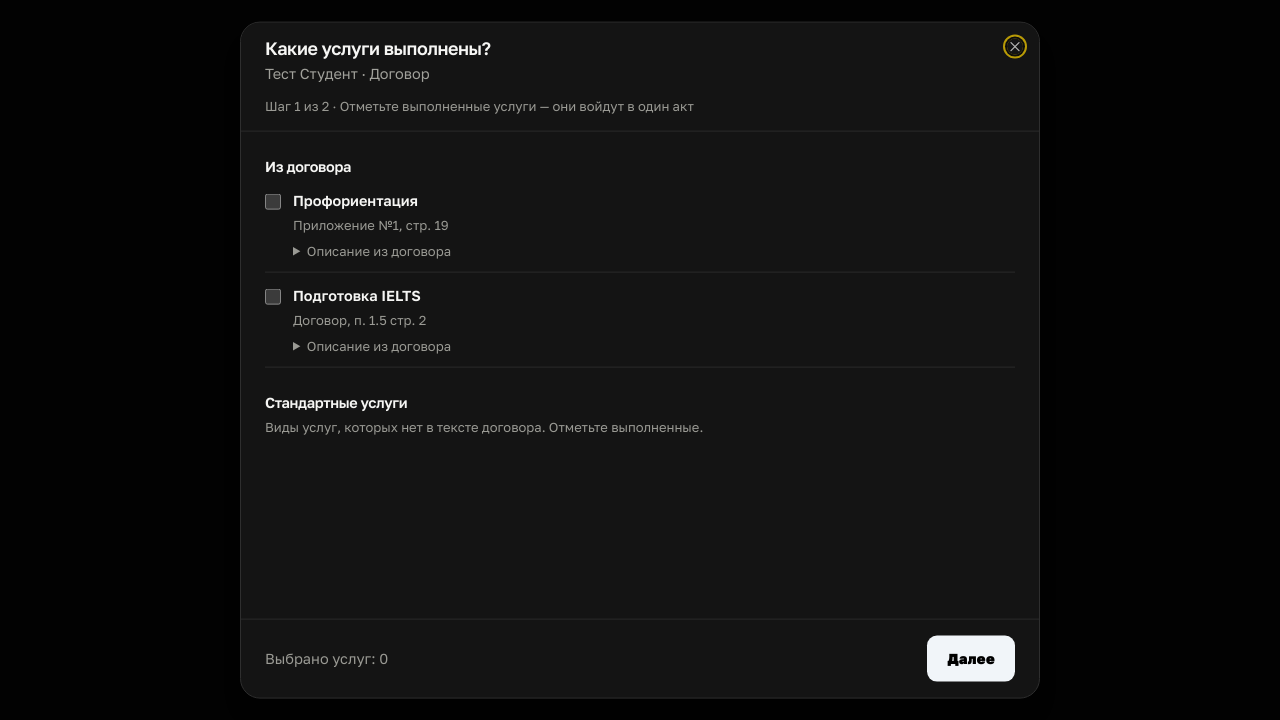
Scenario: defaults the period end and act date to today and explains a wrong date under the field
The width and height of the screenshot is (1280, 720).
Click the checkbox labelled "Подготовка IELTS Договор, п. 1.5 стр. 2". click: point(273, 297)
box: [265,289,281,305]
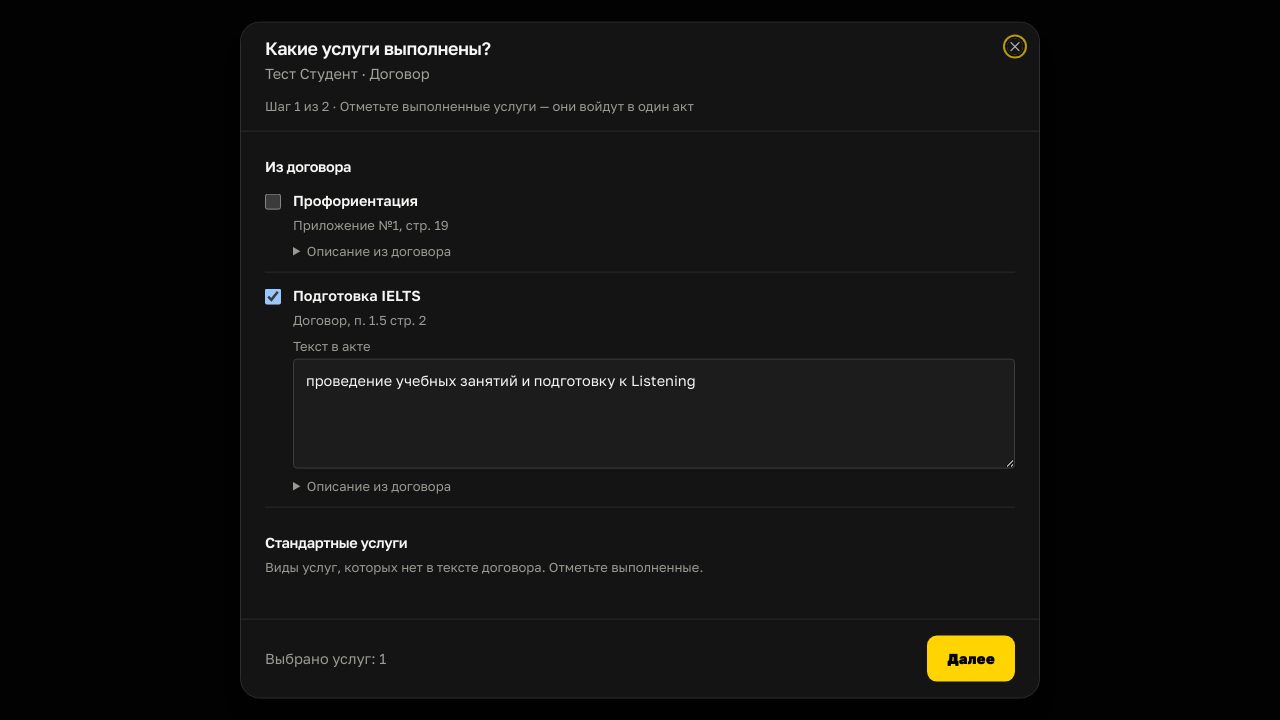
Click the button "Далее". click: point(971, 658)
box: [927,635,1015,681]
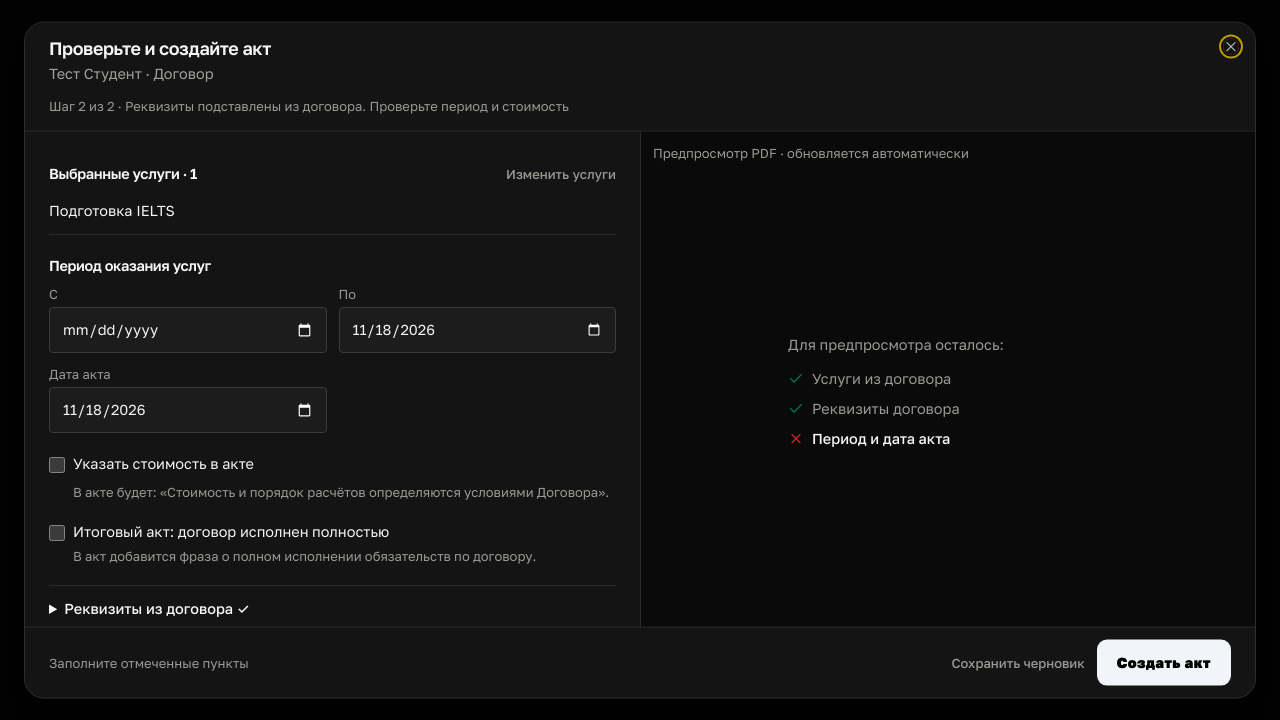
Check: the date field labelled "С" is empty
Type "2026-08-01" into the date field labelled "С". click: point(188, 330)
box: [49,307,326,353]
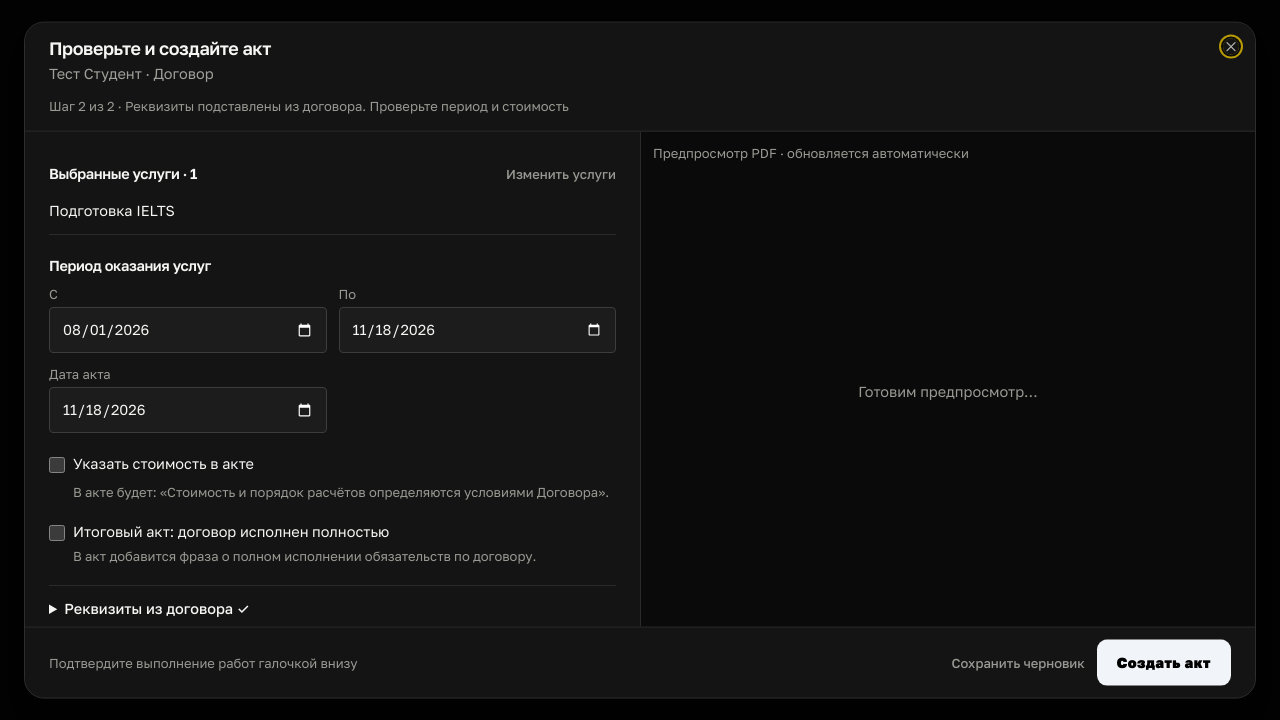
Type "2099-01-01" into the date field labelled "По". click: point(477, 330)
box: [338,307,616,353]
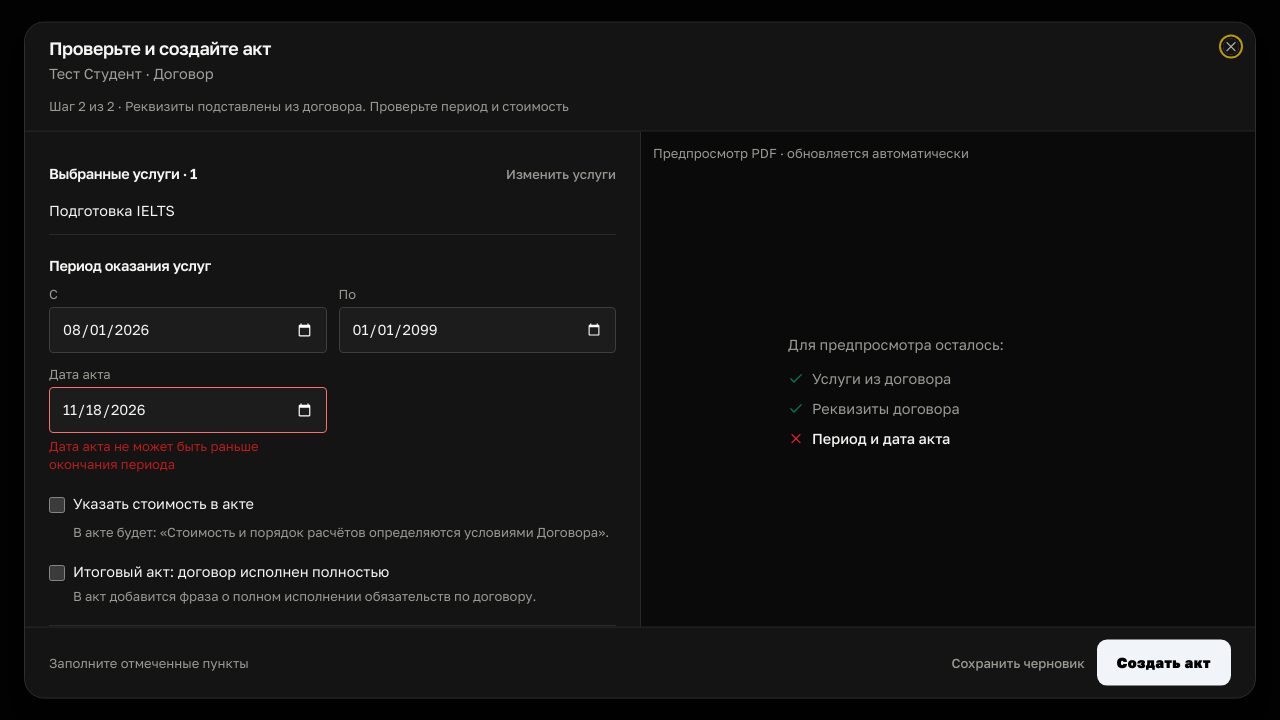
Check: the button "Создать акт" is disabled, box [1097,639,1231,685]
Check: the text "Дата акта не может быть раньше окончания периода" is shown, box [49,438,259,472]
